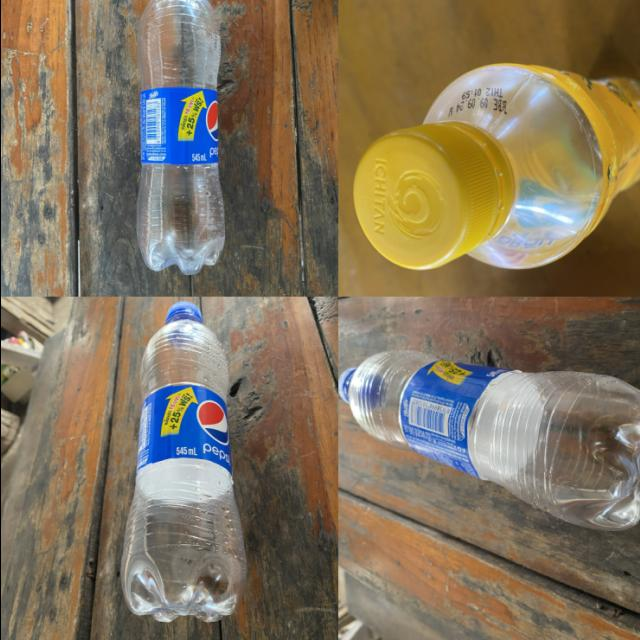plastik: (354, 66, 640, 268), (339, 349, 640, 530), (120, 302, 245, 622), (136, 0, 224, 275)
